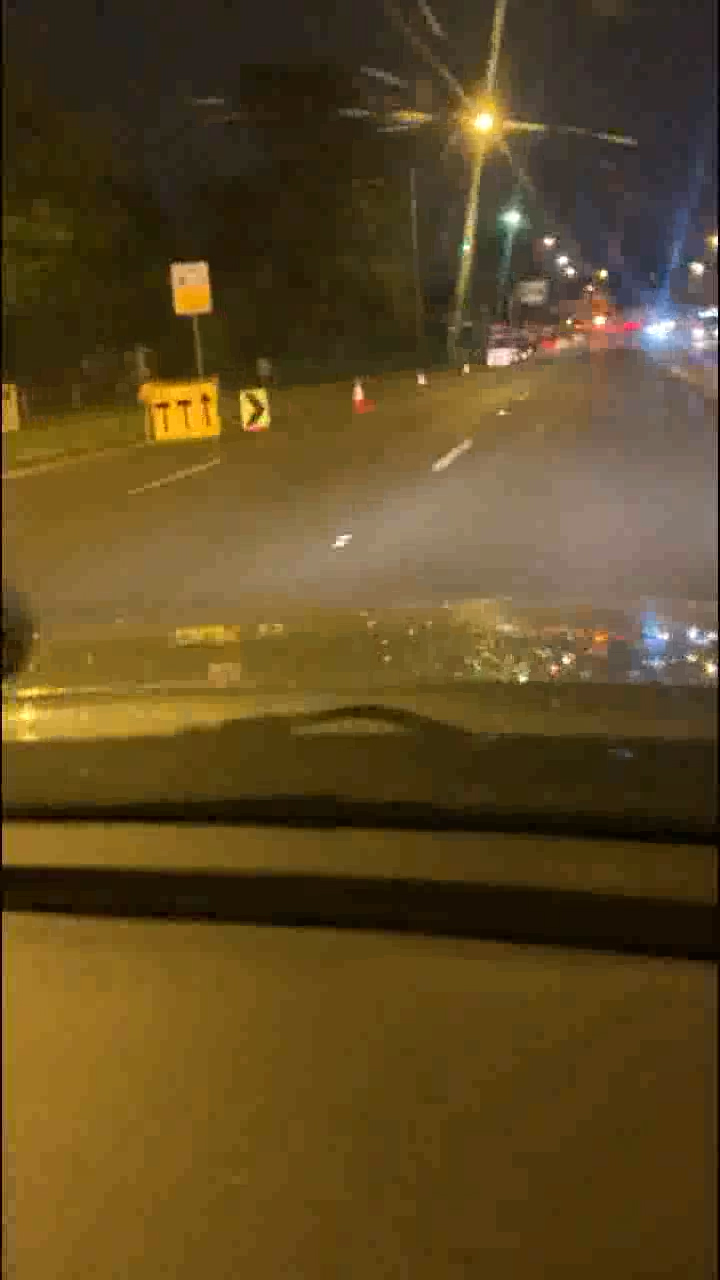road cone: (347, 380, 372, 411)
road works sign board: (135, 378, 222, 444), (233, 394, 270, 434)
